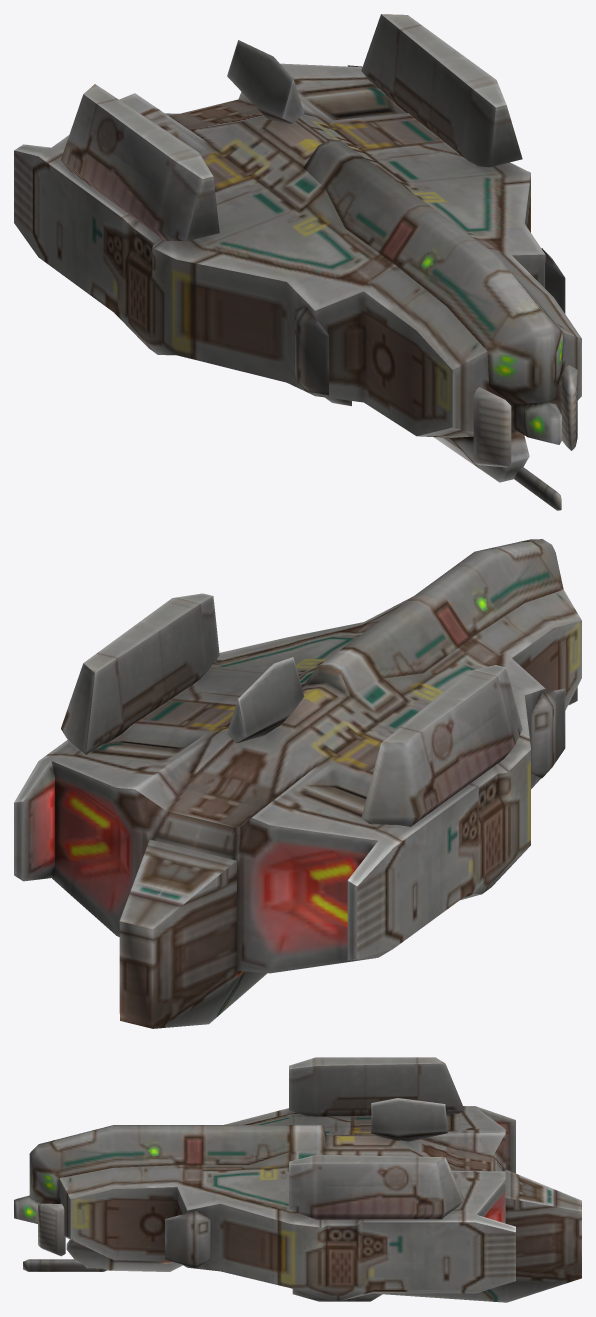
The model's file is tan_sc_assa_01_t1.glb.
The picture shows the model from 3 angles, top to bottom: view 1: azimuth 30°, elevation 25°; view 2: azimuth 150°, elevation 25°; view 3: azimuth 270°, elevation 25°; orthographic projection. The views are drawn at different scales.
Visible parts, largest first — view 1: Tan_Assault_Corvette_01_LOD0; view 2: Tan_Assault_Corvette_01_LOD0; view 3: Tan_Assault_Corvette_01_LOD0.
Part boxes in pixels (left/top/right/bottom): Tan_Assault_Corvette_01_LOD0: left=14, top=14, right=581, bottom=510; Tan_Assault_Corvette_01_LOD0: left=14, top=539, right=581, bottom=1028; Tan_Assault_Corvette_01_LOD0: left=14, top=1057, right=581, bottom=1302.
Size of what is drawn, in the model's own units: 0.3643 by 0.2943 by 0.7436.
1 material, 1 textured.
